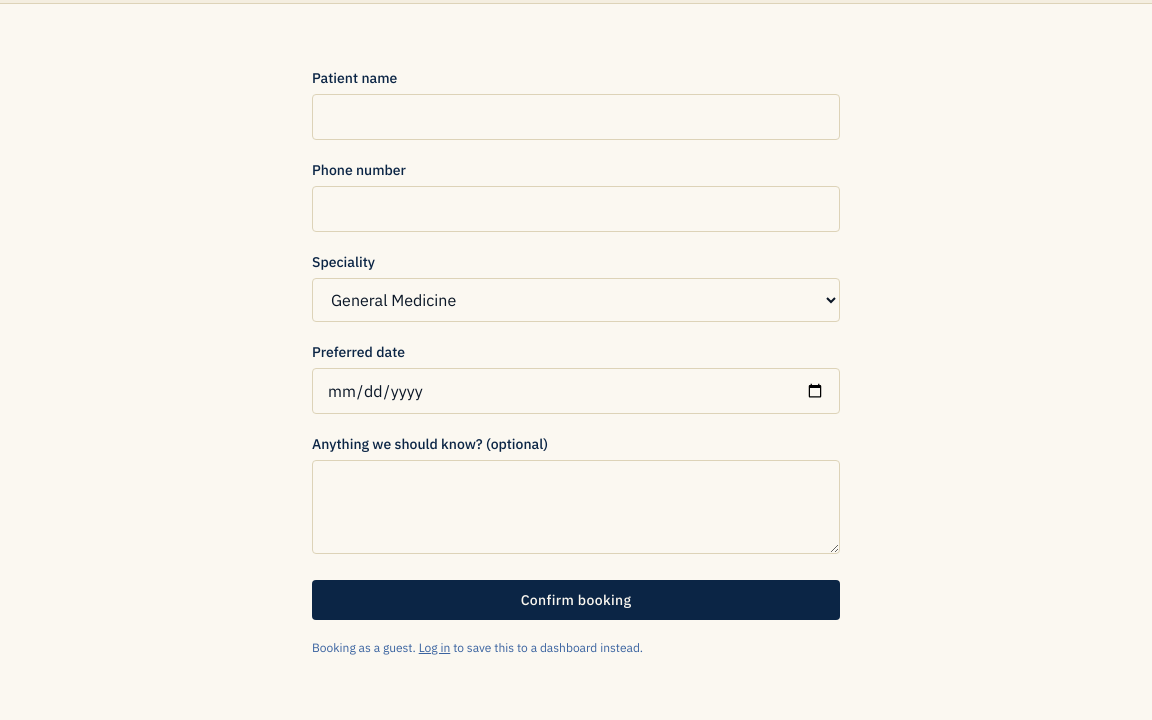
Test: BookAppointmentPage › shows validation errors instead of submitting an incomplete form
This screenshot has width=1152, height=720.
(page scrolled)
Click the button "Confirm booking" at (576, 600), box top-left (312, 580), bottom-right (840, 620)
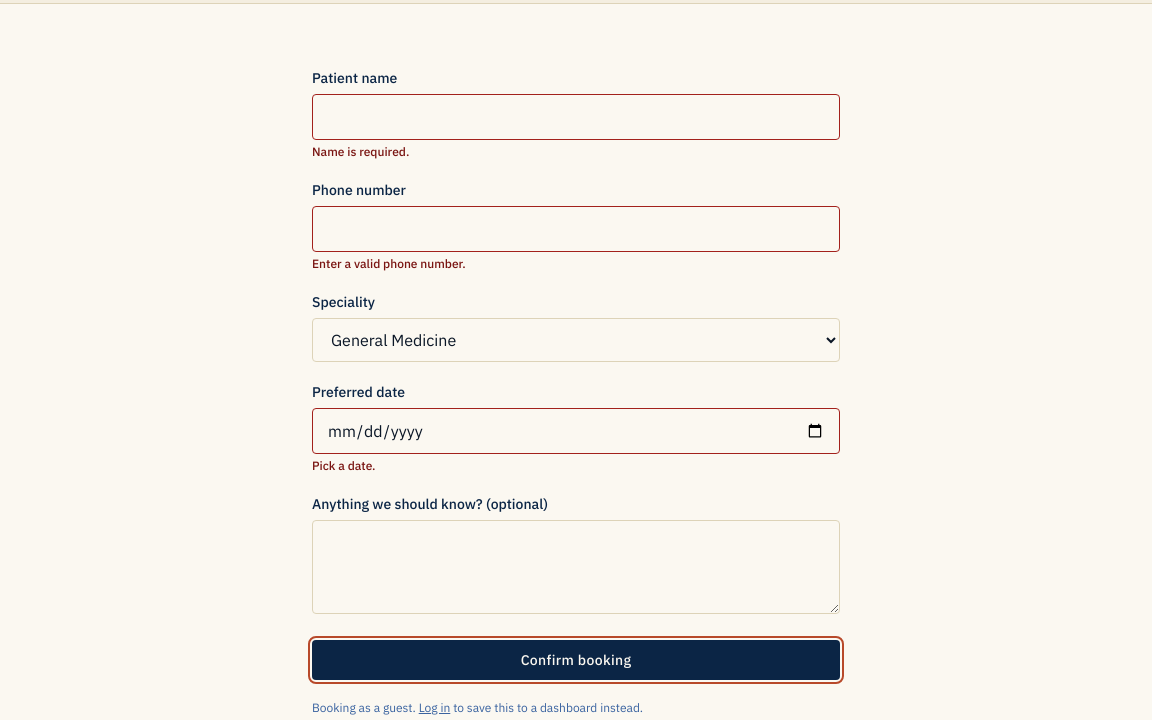
Check: the text "Name is required." is shown, box top-left (312, 144), bottom-right (409, 159)
Check: the text "Enter a valid phone number." is shown, box top-left (312, 256), bottom-right (466, 271)
